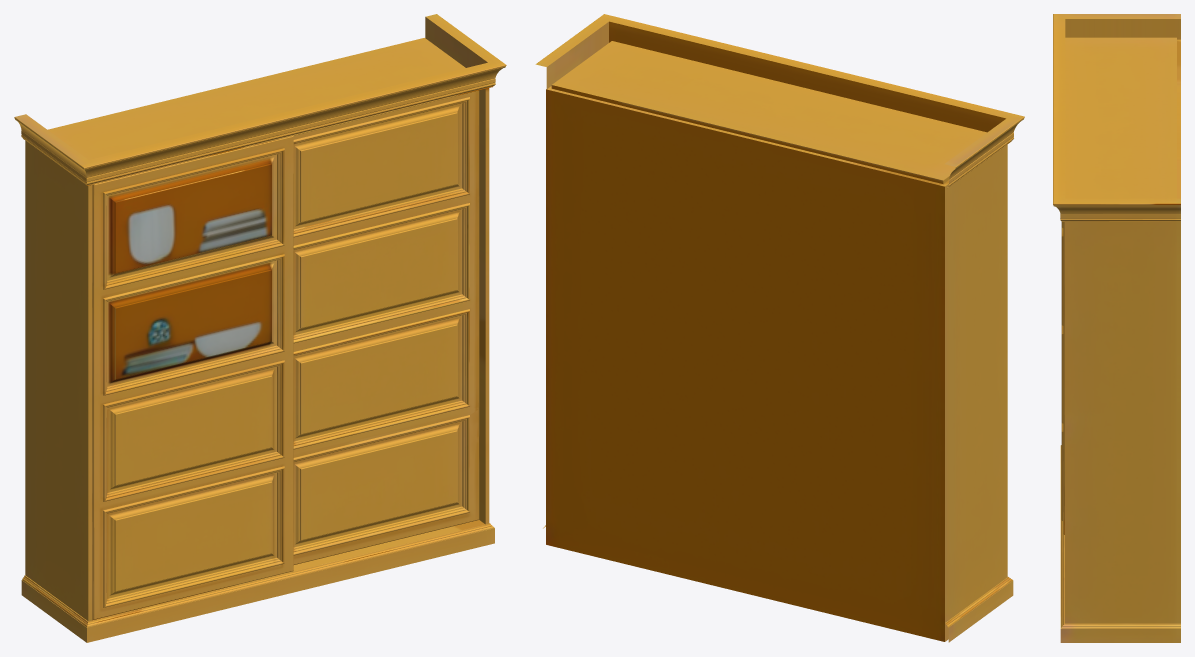
The model's file is edited_mesh.glb.
3 renders of one model, left to right at view 1: azimuth 30°, elevation 25°; view 2: azimuth 150°, elevation 25°; view 3: azimuth 270°, elevation 25°, orthographic. The views are drawn at different scales.
Parts seen in each view (by area): view 1: normalized_model.obj; view 2: normalized_model.obj; view 3: normalized_model.obj.
Boxes of the visible parts, x1,y1,x2,y2 form: normalized_model.obj: [14, 14, 506, 642]; normalized_model.obj: [535, 14, 1024, 642]; normalized_model.obj: [1053, 14, 1180, 642].
Size of the model in its own units: 1.26 by 1.37 by 0.359.
Materials: 1 (1 with a texture image).
